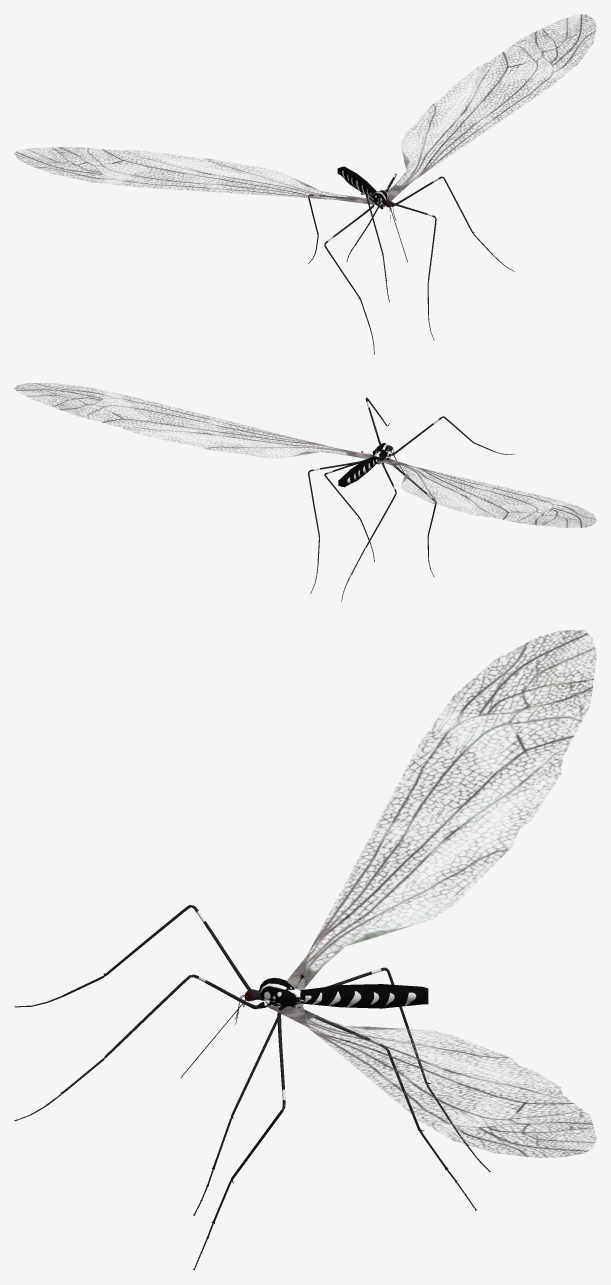
The model's file is mosq-transformed.glb.
3 renders of one model, top to bottom at view 1: azimuth 30°, elevation 25°; view 2: azimuth 150°, elevation 25°; view 3: azimuth 270°, elevation 25°, orthographic. The views are drawn at different scales.
Parts seen in each view (by area): view 1: Object_8, Object_10, MOSQCUL_11; view 2: Object_8, Object_10, MOSQCUL_11; view 3: Object_10, Object_8, MOSQCUL_11, Object_12.
Part boxes in pixels (x1,y1,x2,y2): Object_8: (383, 14, 596, 207); Object_10: (14, 147, 384, 206); MOSQCUL_11: (337, 166, 376, 197); Object_8: (14, 383, 372, 459); Object_10: (378, 458, 596, 527); MOSQCUL_11: (338, 456, 378, 487); Object_10: (269, 630, 596, 1005); Object_8: (267, 1003, 596, 1157); MOSQCUL_11: (300, 984, 428, 1008); Object_12: (257, 977, 301, 1010).
Size of the model in its own units: 2.57 by 0.8026 by 1.2.
7 materials, 3 textured.
